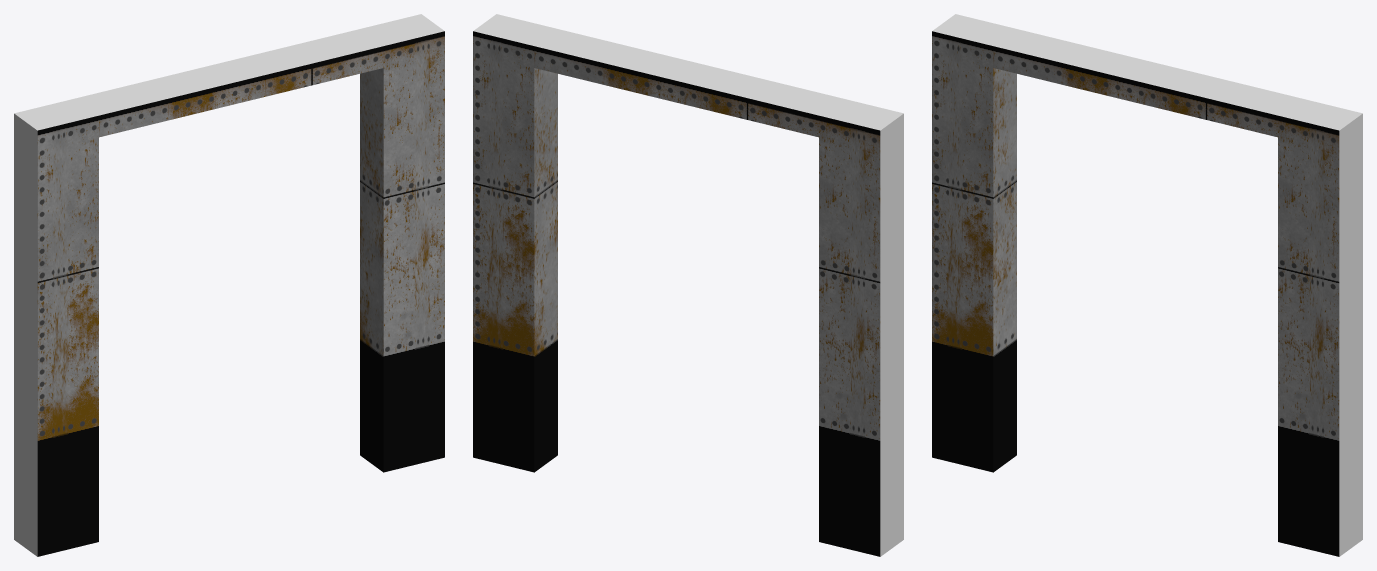
File: DoorV2.fbx
The picture shows the model from 3 angles, left to right: view 1: azimuth 30°, elevation 25°; view 2: azimuth 150°, elevation 25°; view 3: azimuth 330°, elevation 25°; orthographic projection.
Visible parts, largest first — view 1: Doorframe2; view 2: Doorframe2; view 3: Doorframe2.
Boxes of the visible parts, left/top/right/bottom form: Doorframe2: left=14, top=14, right=444, bottom=556; Doorframe2: left=473, top=14, right=903, bottom=556; Doorframe2: left=932, top=14, right=1362, bottom=556.
Bounding box in the file's own units: 200 × 200 × 20.
